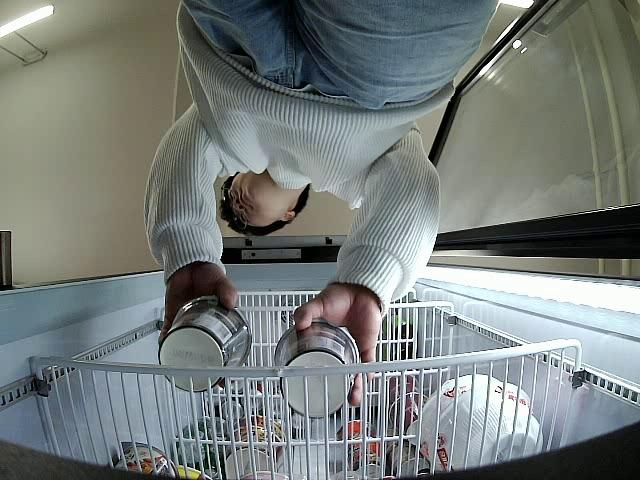00_hand: (294, 287, 378, 409), (158, 279, 239, 349)
08_buldak_S: (159, 298, 251, 393), (272, 319, 359, 418)
